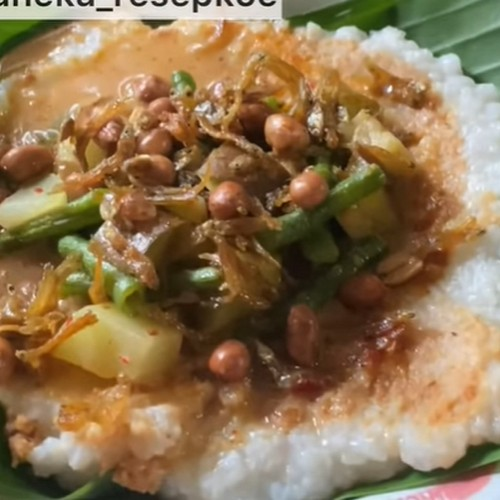bubur mengguh: (1, 39, 500, 471)
